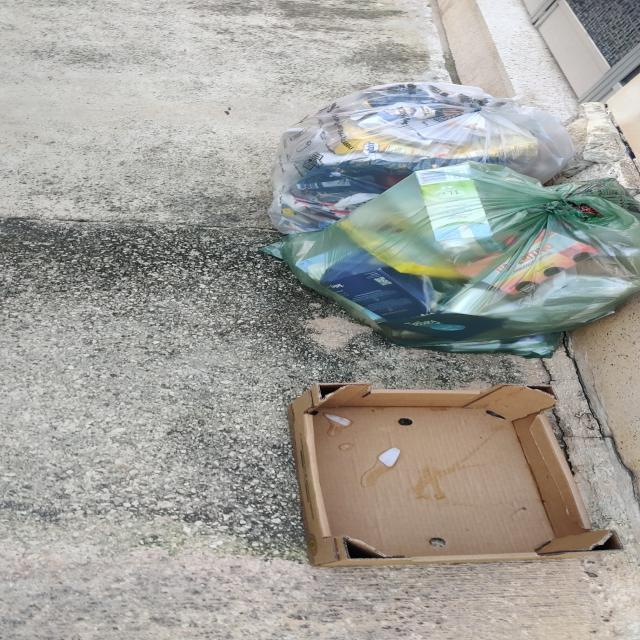Others Waste: (293, 381, 635, 570)
Recyclable Material -Grey Bags-: (261, 86, 640, 350)
